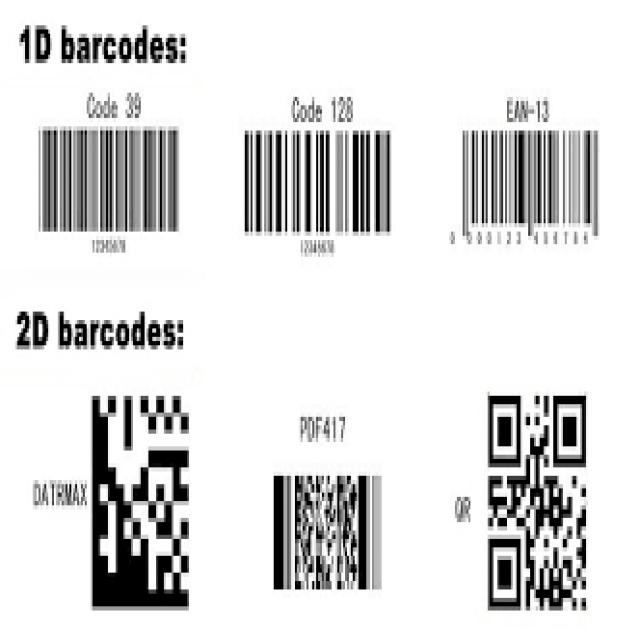datamatrix: (83, 374, 200, 632)
